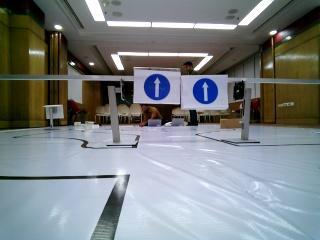straight: (180, 73, 226, 110), (134, 68, 179, 103)
